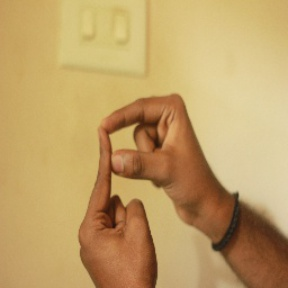P: (73, 88, 199, 244)
